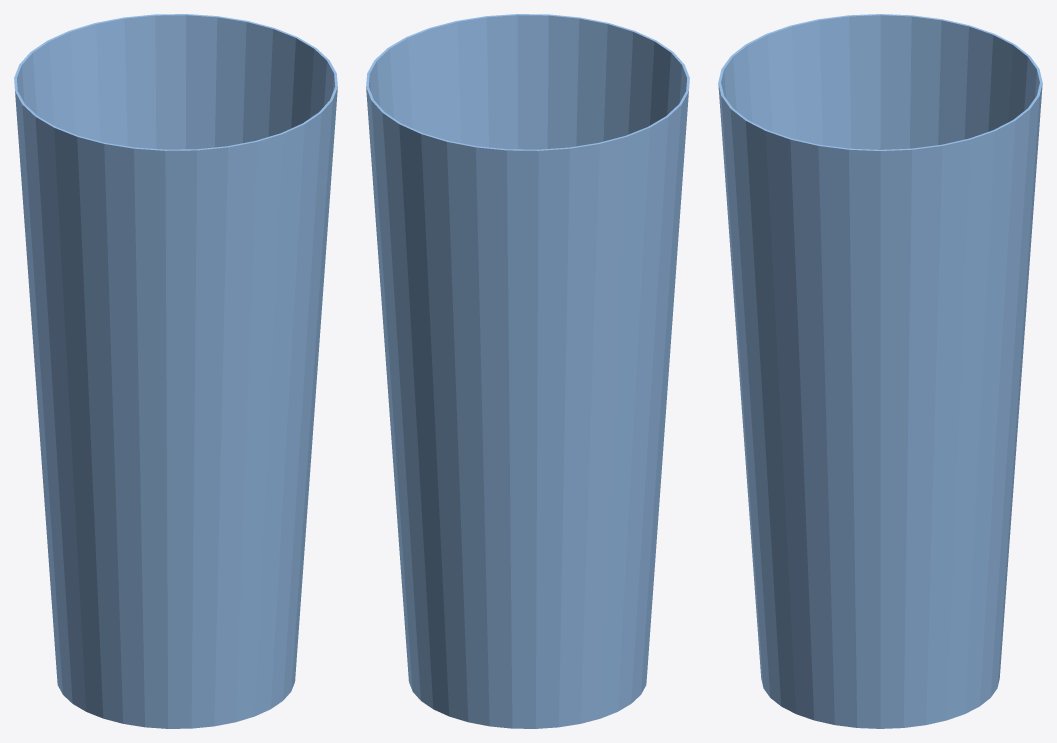
The model's file is Glass_Cup.obj.
The picture shows the model from 3 angles, left to right: view 1: azimuth 30°, elevation 25°; view 2: azimuth 150°, elevation 25°; view 3: azimuth 270°, elevation 25°; orthographic projection.
Visible parts, largest first — view 1: Cylinder_Cylinder.003; view 2: Cylinder_Cylinder.003; view 3: Cylinder_Cylinder.003.
Part boxes in pixels (x1=…): Cylinder_Cylinder.003: x1=14, y1=14, x2=337, y2=728; Cylinder_Cylinder.003: x1=366, y1=14, x2=689, y2=728; Cylinder_Cylinder.003: x1=718, y1=14, x2=1042, y2=728.
Size of what is drawn, in the model's own units: 2.13 by 4.31 by 2.13.
